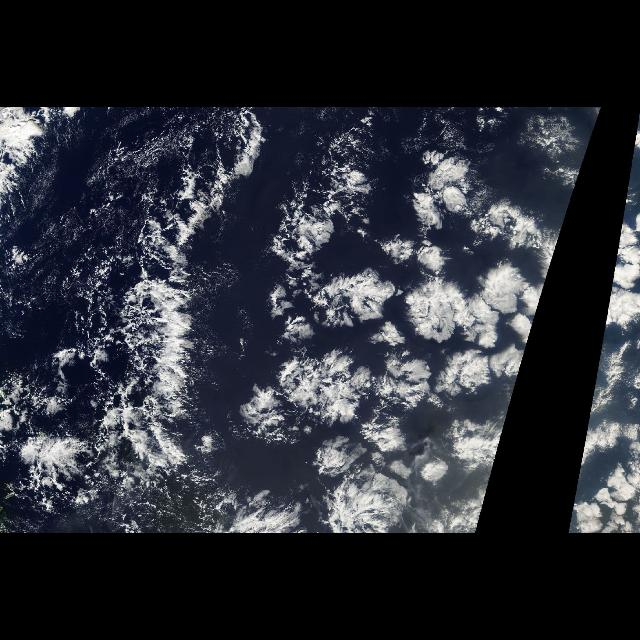Fish: (77, 110, 253, 502)
Flower: (238, 123, 600, 531), (568, 123, 640, 531)
Gravel: (6, 110, 260, 528)
